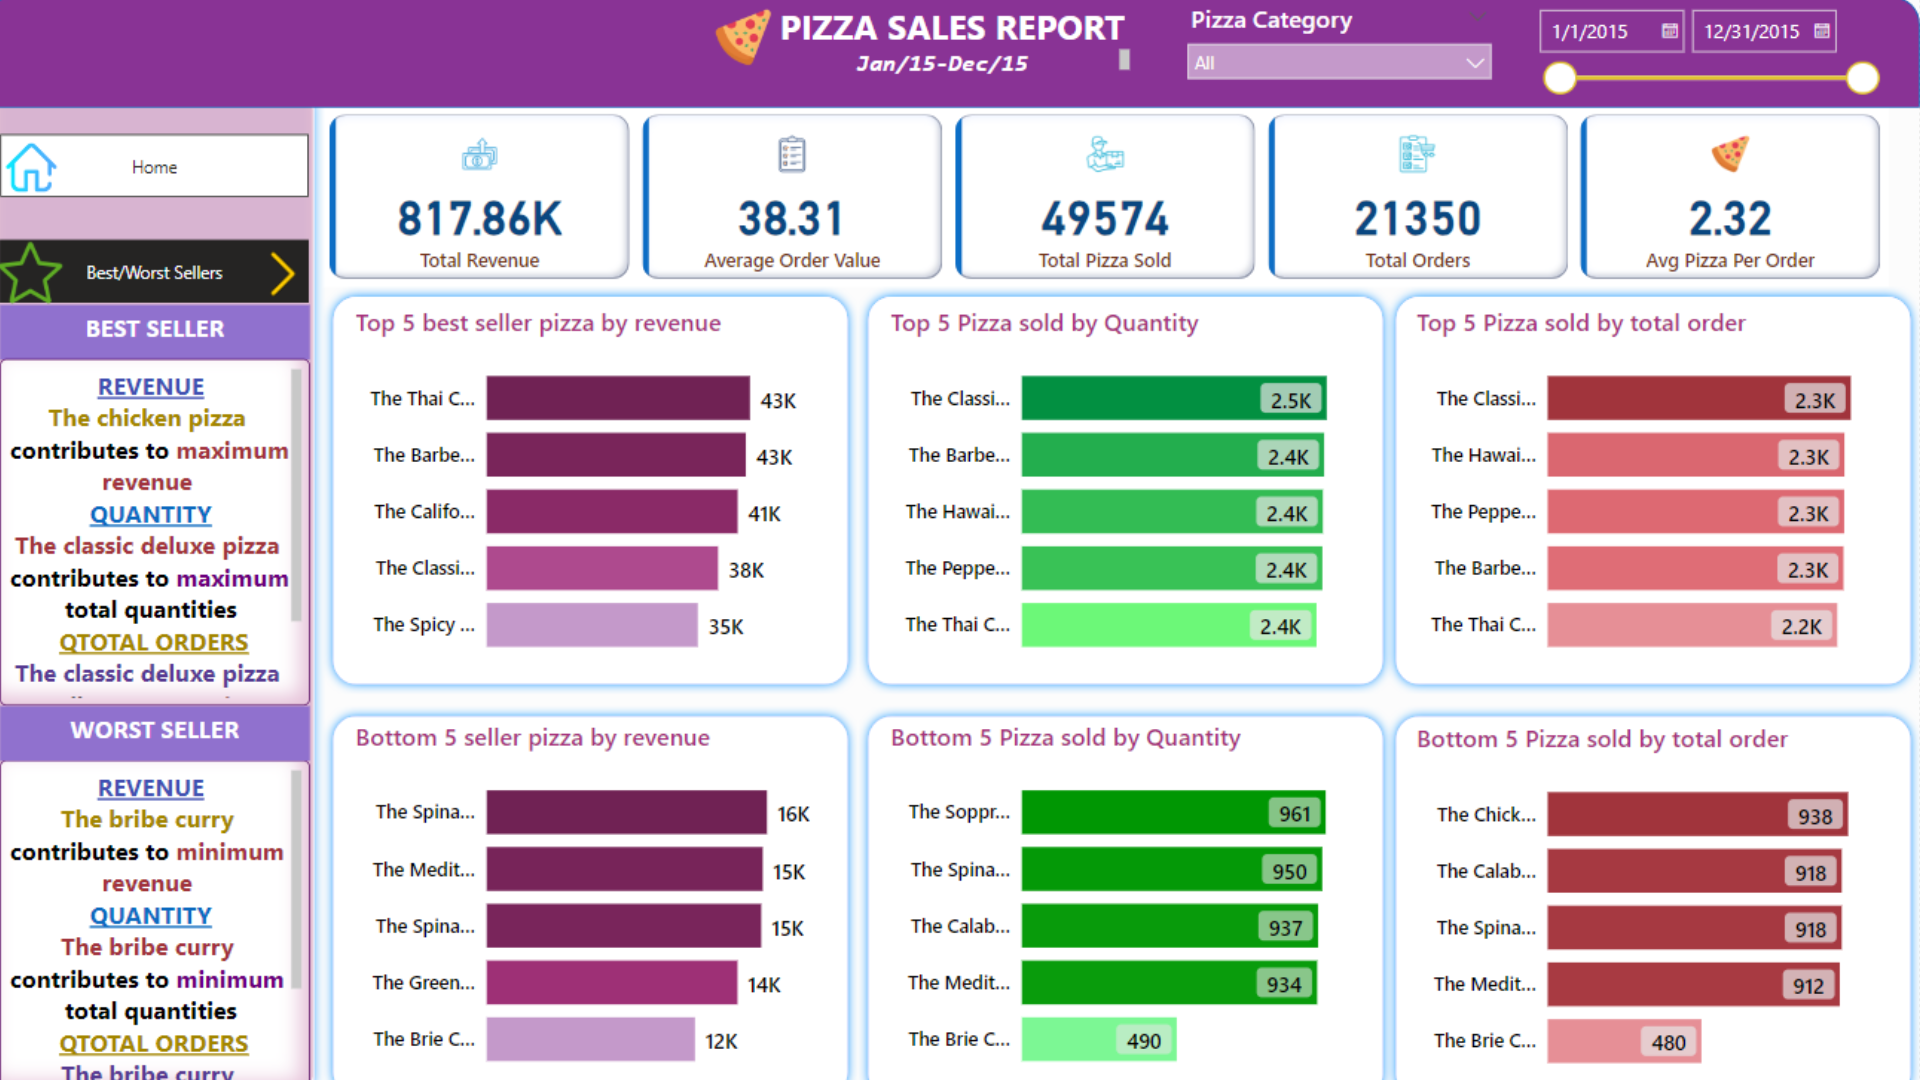

What the dashboard file says about the page in this screenshot:
{"tool":"powerbi","page":{"name":"Best/Worst Sellers","canvas":[1505,862],"ordinal":1},"visuals":[{"type":"cardVisual","fields":{"Data":["pizza_sales.Total Revenue","pizza_sales.Average Order Value","pizza_sales.Total Pizza Sold","pizza_sales.Total Orders","pizza_sales.Avg Pizza Per Order"]},"box":[264.4,86.4,1216.9,139],"z":0},{"type":"shape","box":[1.5,65.2,263.6,797],"z":1000},{"type":"shape","box":[0,0,1505.1,86.4],"z":2000},{"type":"textbox","box":[580.3,0,345.5,54.5],"z":3000},{"type":"textbox","box":[601.5,36.4,293.9,28.8],"z":4000},{"type":"image","box":[330.3,4.5,519.7,54.5],"z":5000},{"type":"shape","box":[264.4,225.4,415.3,316.9],"z":6000},{"type":"textbox","box":[13.6,239.4,240.9,42.4],"z":7000},{"type":"textbox","box":[13.6,281.4,240.7,269.5],"z":8000},{"type":"textbox","box":[13.6,593.2,240.7,257.6],"z":9000},{"type":"textbox","box":[13.6,550.8,240.7,42.4],"z":10000},{"type":"slicer","fields":{"Values":["pizza_sales.pizza_category"]},"box":[925.8,0,256.1,65.2],"z":11000},{"type":"slicer","fields":{"Values":["pizza_sales.order_date"]},"box":[1196.6,0,284.7,86.4],"z":12000},{"type":"shape","box":[679.7,225.4,415.3,316.9],"z":13000},{"type":"shape","box":[1089.8,225.4,415.3,316.9],"z":14000},{"type":"shape","box":[264.4,550.8,415.3,310.2],"z":15000},{"type":"shape","box":[679.7,550.8,415.3,311.9],"z":16000},{"type":"shape","box":[1089.8,550.8,415.3,311.9],"z":17000},{"type":"clusteredBarChart","title":"Top 5 best seller pizza by revenue","fields":{"Category":["pizza_sales.pizza_name"],"Y":["pizza_sales.Total Revenue"]},"box":[284.7,239,378,289.8],"z":18000},{"type":"clusteredBarChart","title":"Bottom 5 seller pizza by revenue","fields":{"Category":["pizza_sales.pizza_name"],"Y":["pizza_sales.Total Revenue"]},"box":[284.7,561,378,289.8],"z":19000},{"type":"clusteredBarChart","title":"Top 5 Pizza sold by Quantity","fields":{"Category":["pizza_sales.pizza_name"],"Y":["pizza_sales.Total Pizza Sold"]},"box":[700,239,378,289.8],"z":20000},{"type":"clusteredBarChart","title":"Bottom 5 Pizza sold by Quantity","fields":{"Category":["pizza_sales.pizza_name"],"Y":["pizza_sales.Total Pizza Sold"]},"box":[700,561,378,289.8],"z":21000},{"type":"clusteredBarChart","title":"Top 5 Pizza sold by total order","fields":{"Category":["pizza_sales.pizza_name"],"Y":["pizza_sales.Total Orders"]},"box":[1108.5,239,378,289.8],"z":22000},{"type":"clusteredBarChart","title":"Bottom 5 Pizza sold by total order","fields":{"Category":["pizza_sales.pizza_name"],"Y":["pizza_sales.Total Orders"]},"box":[1108.5,562.7,378,289.8],"z":23000},{"type":"pageNavigator","box":[13.6,189.8,240.7,49.2],"z":24000},{"type":"pageNavigator","box":[13.6,106.8,240.7,49.2],"z":25000},{"type":"image","box":[210.2,186.4,44.1,57.6],"z":26000},{"type":"image","box":[13.6,106.8,49.2,52.5],"z":27000},{"type":"image","box":[1.7,184.7,69.5,59.3],"z":28000}]}

Visuals, with their boxes in screenshot pixels (x1, y1, x2, y2), scaled from the page's 1505x862 canvas onto the 1920x1080 screenshot:
cardVisual - pizza_sales.Total Revenue x pizza_sales.Average Order Value: BBox(337, 108, 1890, 282)
shape: BBox(2, 82, 338, 1079)
shape: BBox(0, 0, 1919, 108)
textbox: BBox(740, 0, 1181, 68)
textbox: BBox(767, 46, 1142, 82)
image: BBox(421, 6, 1084, 74)
shape: BBox(337, 282, 867, 679)
textbox: BBox(17, 300, 325, 353)
textbox: BBox(17, 353, 324, 690)
textbox: BBox(17, 743, 324, 1066)
textbox: BBox(17, 690, 324, 743)
slicer - pizza_sales.pizza_category: BBox(1181, 0, 1508, 82)
slicer - pizza_sales.order_date: BBox(1527, 0, 1890, 108)
shape: BBox(867, 282, 1397, 679)
shape: BBox(1390, 282, 1919, 679)
shape: BBox(337, 690, 867, 1079)
shape: BBox(867, 690, 1397, 1079)
shape: BBox(1390, 690, 1919, 1079)
"Top 5 best seller pizza by revenue" clusteredBarChart: BBox(363, 299, 845, 663)
"Bottom 5 seller pizza by revenue" clusteredBarChart: BBox(363, 703, 845, 1066)
"Top 5 Pizza sold by Quantity" clusteredBarChart: BBox(893, 299, 1375, 663)
"Bottom 5 Pizza sold by Quantity" clusteredBarChart: BBox(893, 703, 1375, 1066)
"Top 5 Pizza sold by total order" clusteredBarChart: BBox(1414, 299, 1896, 663)
"Bottom 5 Pizza sold by total order" clusteredBarChart: BBox(1414, 705, 1896, 1068)
pageNavigator: BBox(17, 238, 324, 299)
pageNavigator: BBox(17, 134, 324, 195)
image: BBox(268, 234, 324, 306)
image: BBox(17, 134, 80, 200)
image: BBox(2, 231, 91, 306)
